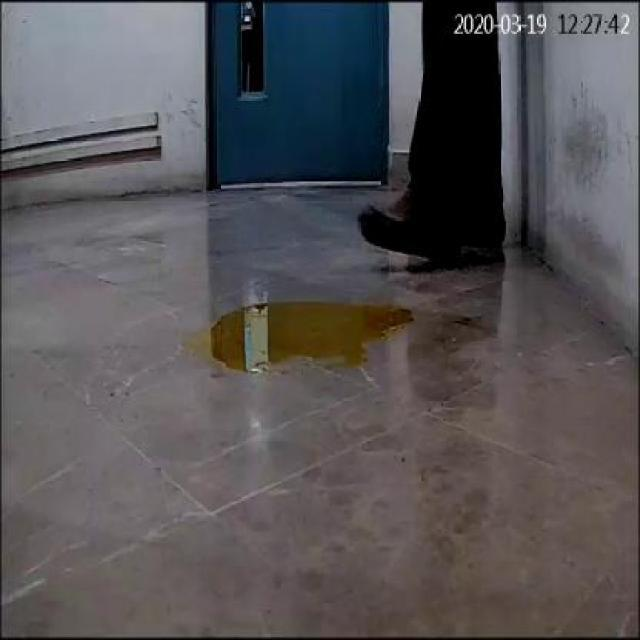spill: (196, 296, 410, 369)
